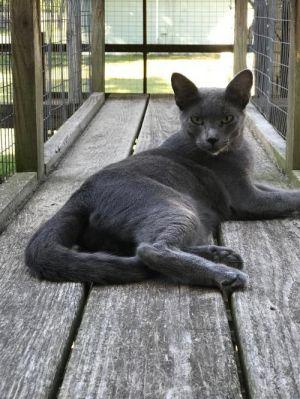rblue: (167, 68, 260, 164)
